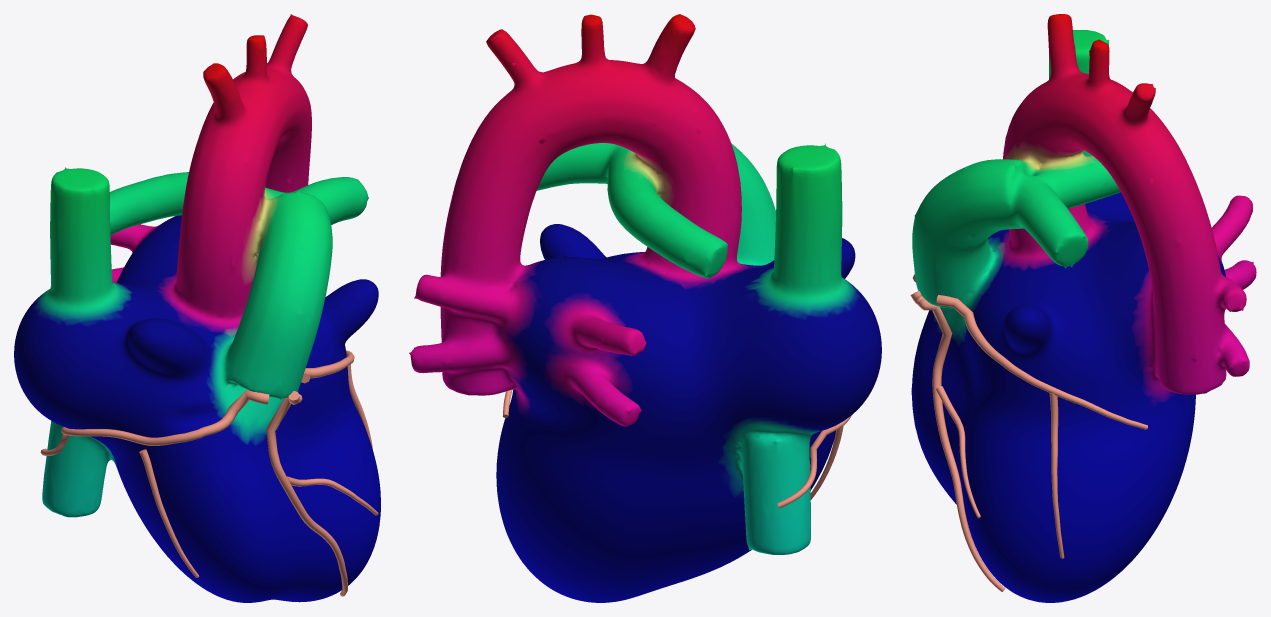
The model's file is heart-source.glb.
3 renders of one model, left to right at view 1: azimuth 30°, elevation 25°; view 2: azimuth 150°, elevation 25°; view 3: azimuth 270°, elevation 25°, orthographic. The views are drawn at different scales.
Visible parts, largest first — view 1: Heart, Coronaries; view 2: Heart, Coronaries; view 3: Heart, Coronaries.
Part boxes in pixels (x1,y1,x2,y2): Heart: (14,14,380,602); Coronaries: (40,350,378,596); Heart: (409,14,881,602); Coronaries: (502,389,851,508); Heart: (911,14,1256,602); Coronaries: (910,274,1147,591).
Size of the model in its own units: 1.5 by 2.3 by 1.33.
